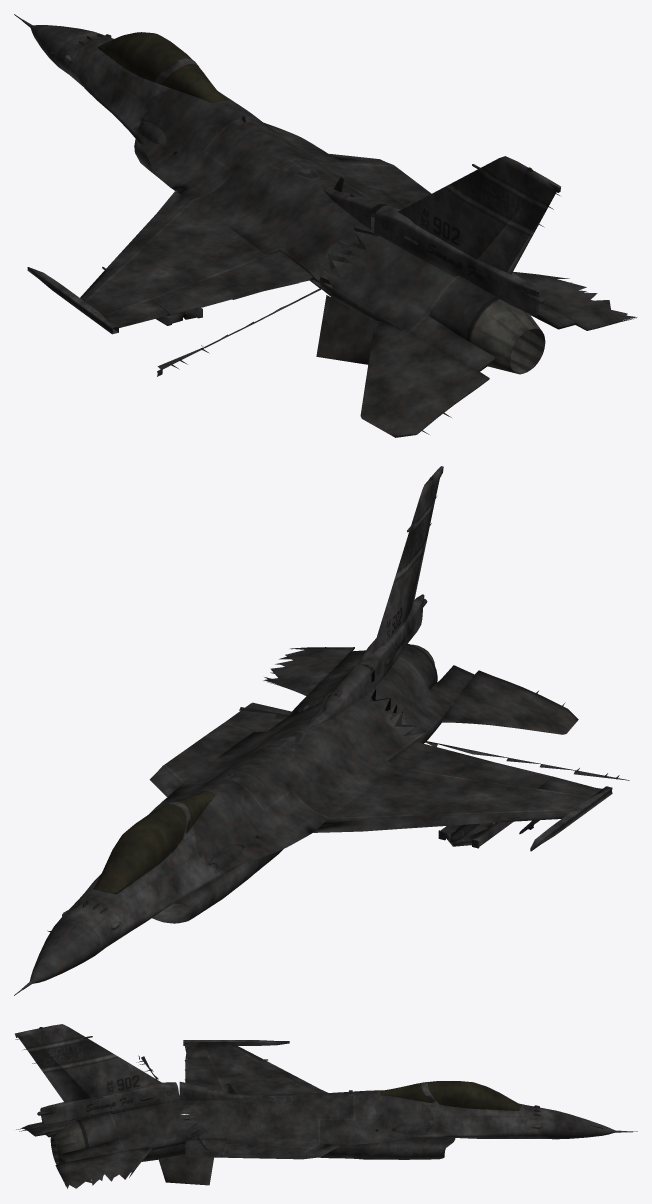
Rendered from f16-wreck.glb.
The picture shows the model from 3 angles, top to bottom: view 1: azimuth 30°, elevation 25°; view 2: azimuth 150°, elevation 25°; view 3: azimuth 270°, elevation 25°; orthographic projection. The views are drawn at different scales.
Parts seen in each view (by area): view 1: hull; view 2: hull; view 3: hull.
Part boxes in pixels (<box>): hull: <box>14,14,637,437</box>; hull: <box>14,466,629,995</box>; hull: <box>15,1024,637,1188</box>.
Bounding box in the file's own units: 7.64 × 4.26 × 15.23.
Materials: 1 (1 with a texture image).
